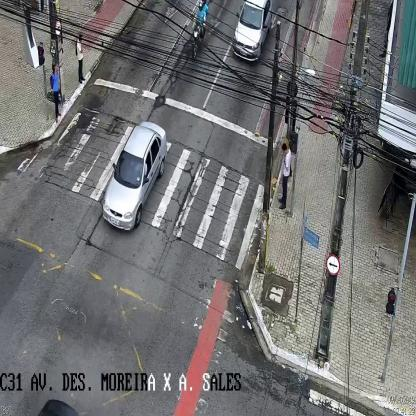car: (103, 121, 167, 231), (232, 0, 272, 61)
motorbike: (192, 0, 209, 58)
person: (277, 142, 290, 208), (74, 33, 86, 83), (52, 63, 61, 121)
